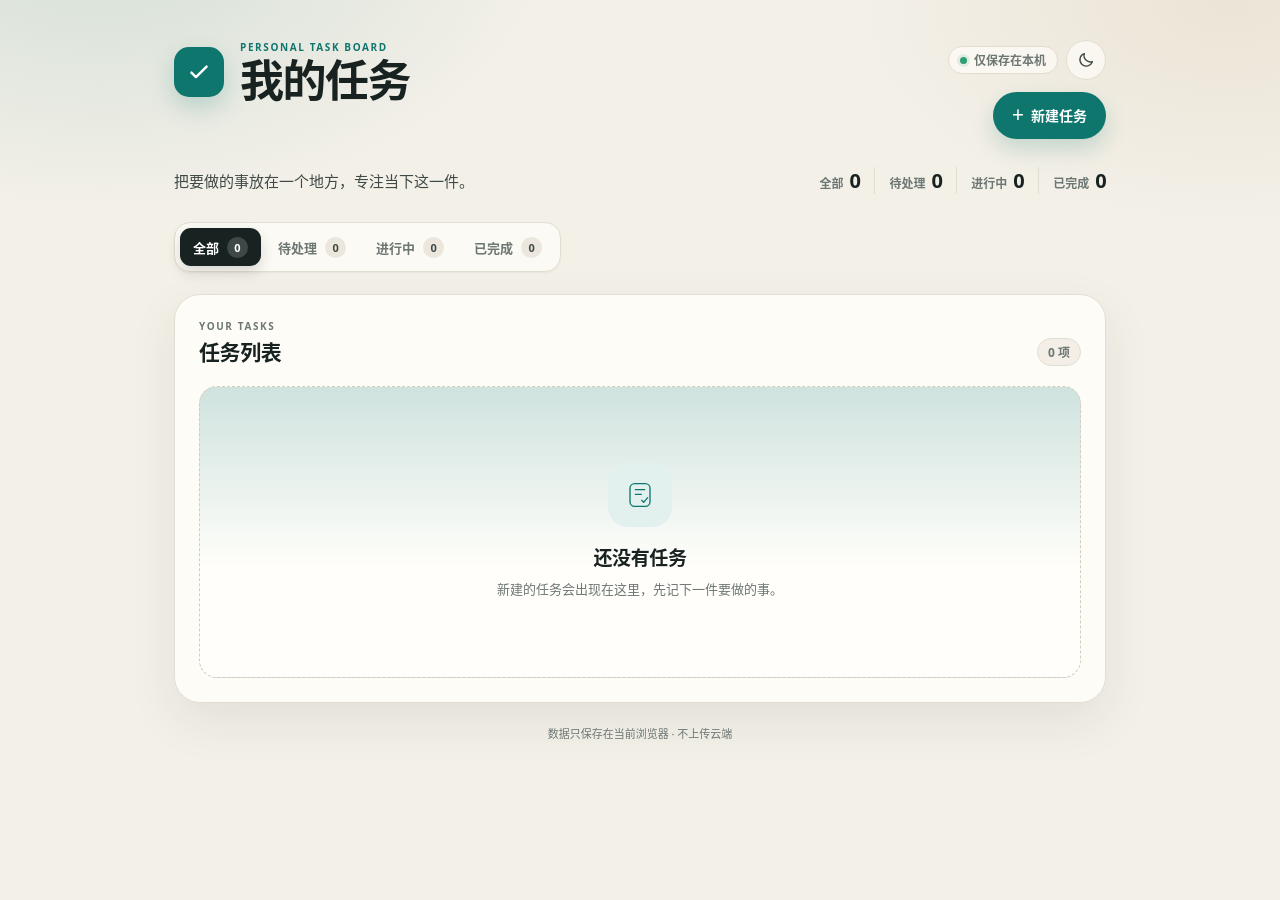
status transitions and feedback › closes a toast from its close button
This screenshot has width=1280, height=900.
Click the button "+ 新建任务": [1050, 116] box [993,92,1106,139]
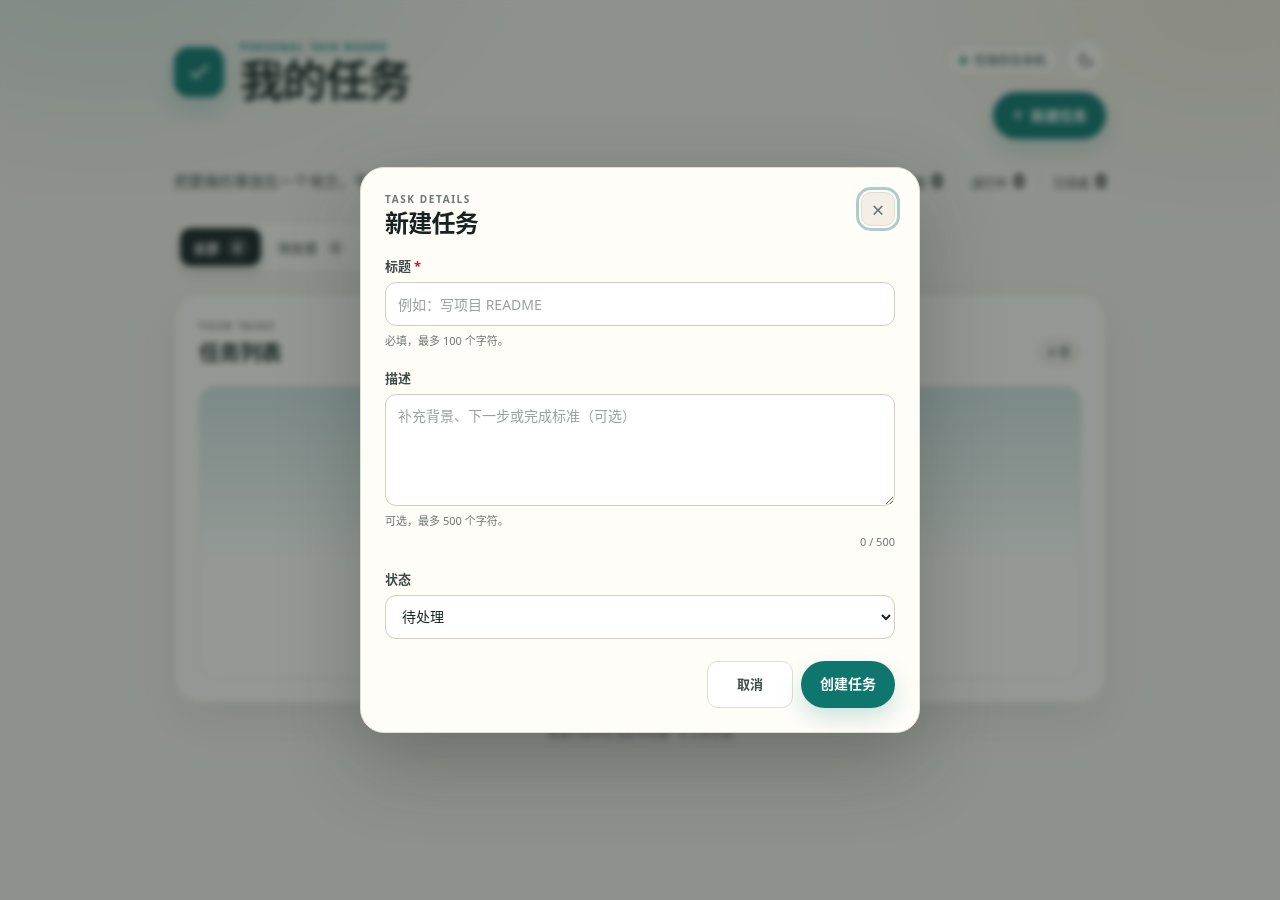
In the field labelled "标题*": [640, 304] box [385,282,895,326], type "可关闭的提示"
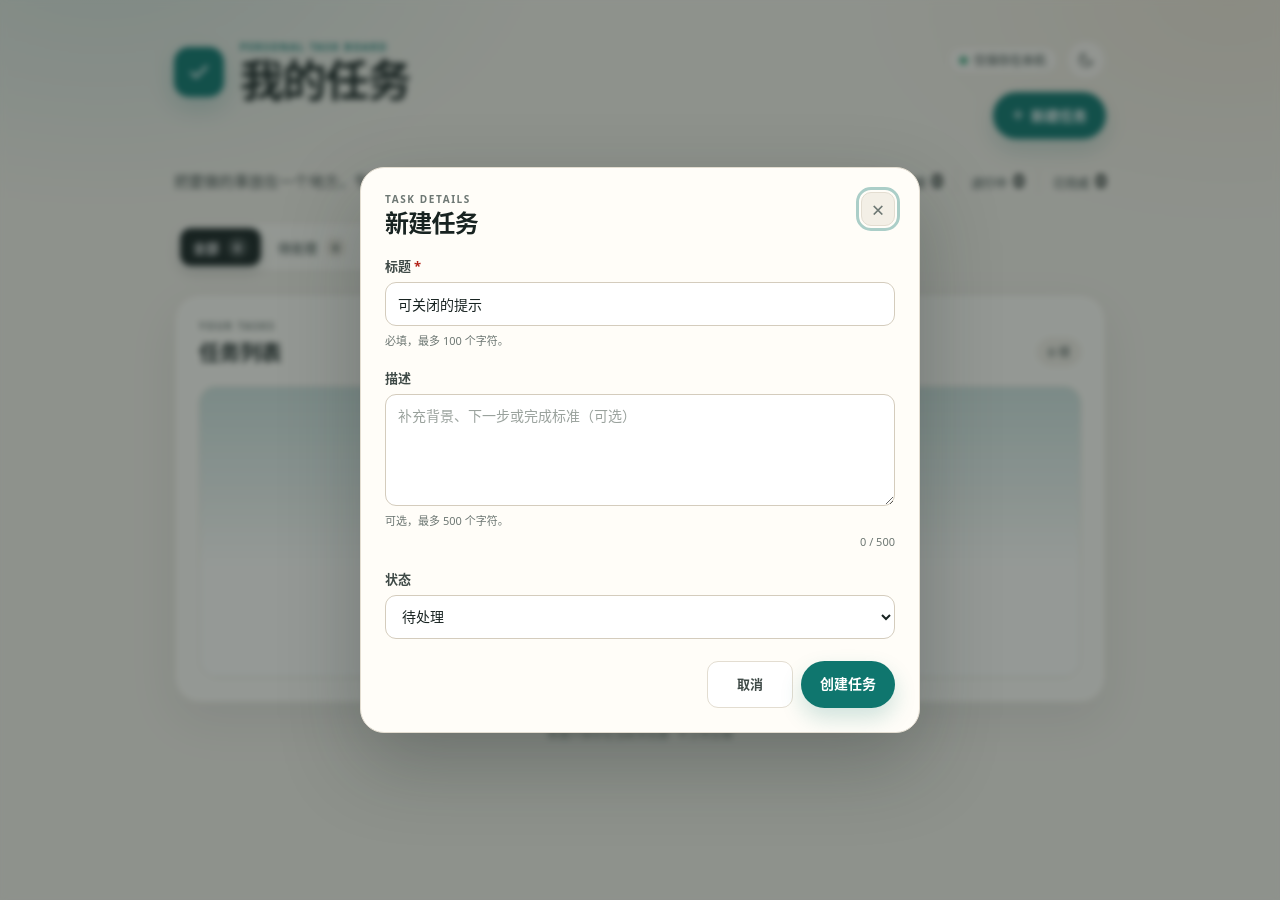
Click the button "创建任务": [848, 684] box [801,661,895,708]
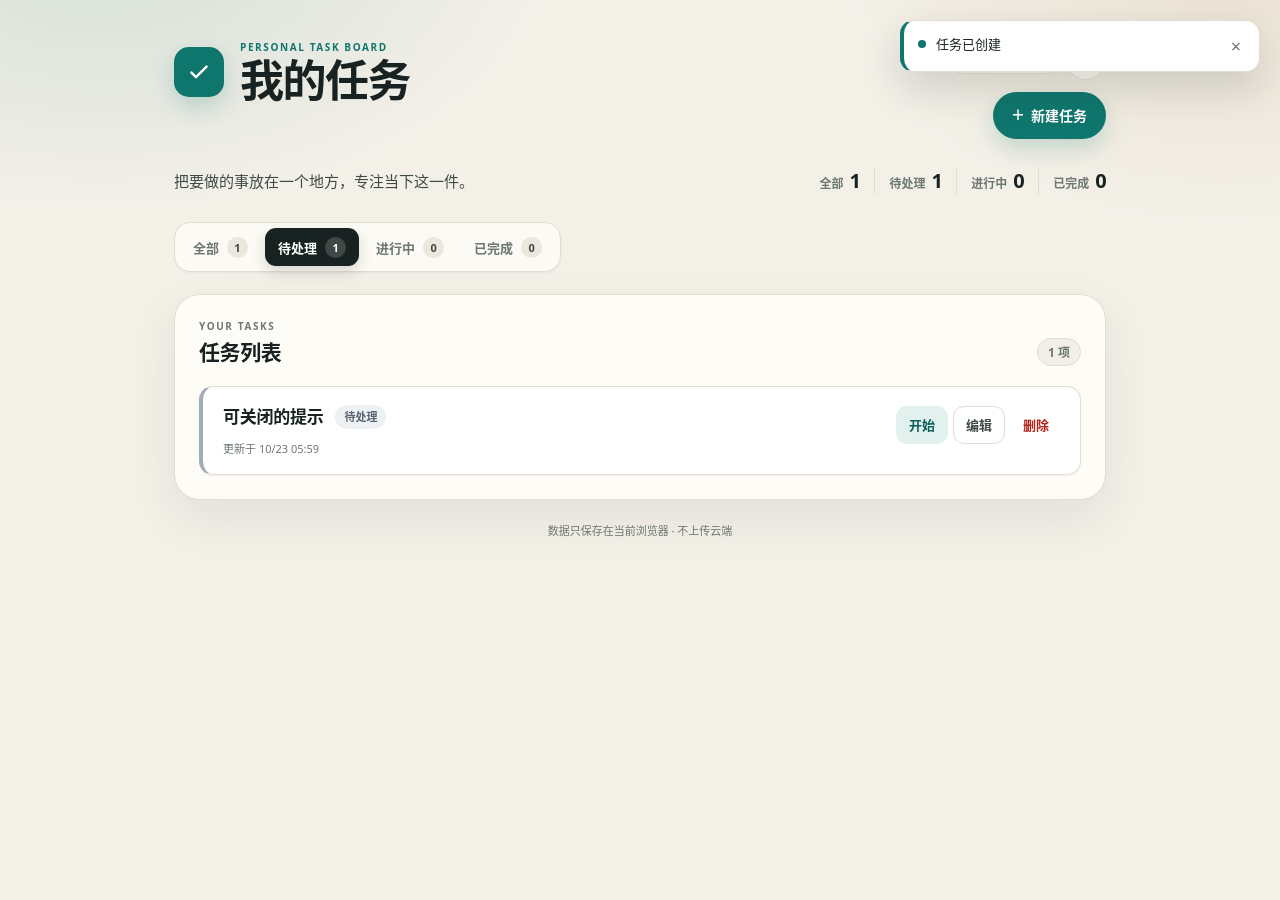
Click the button named "关闭提示": [1236, 46] box [1224,34,1248,58]
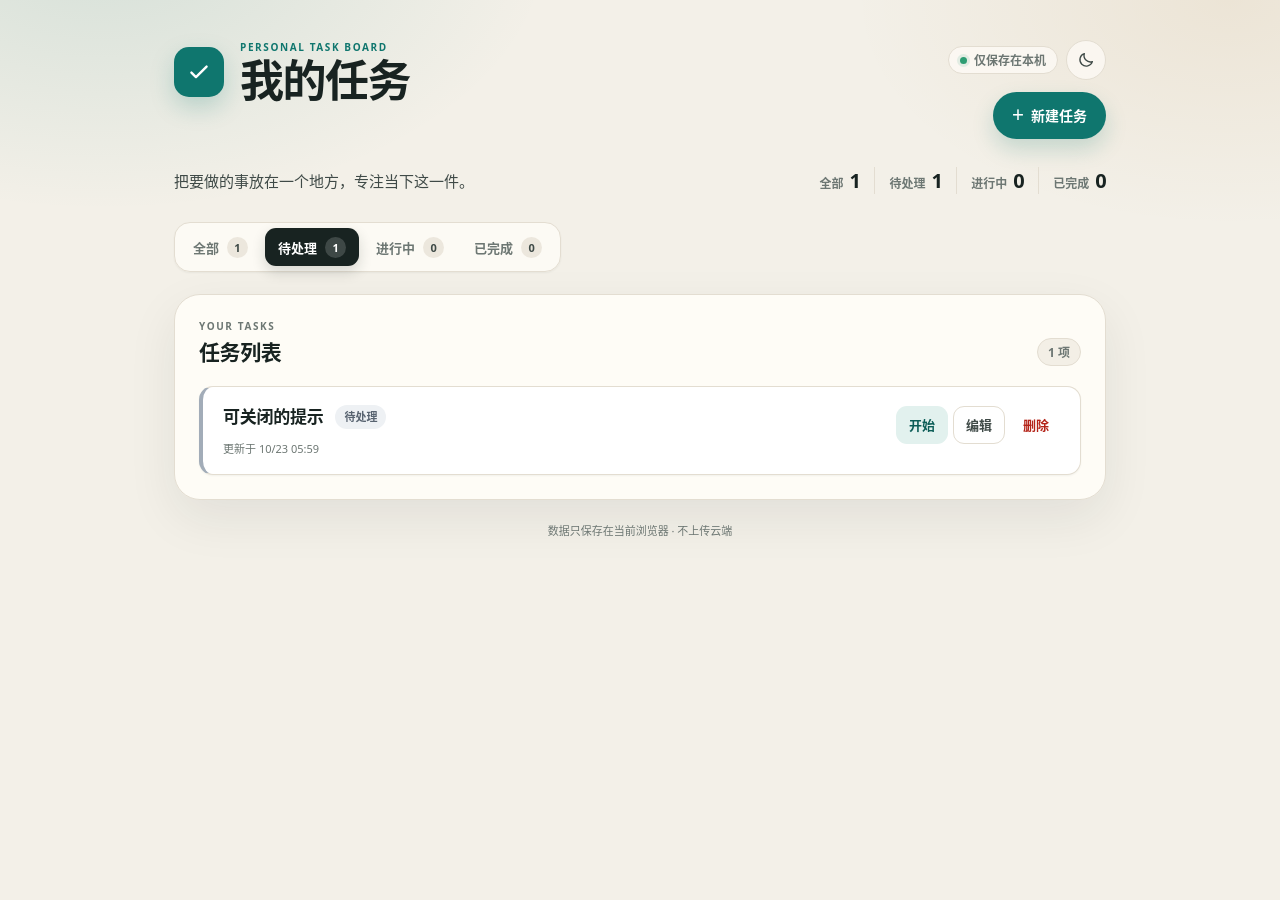
Now the message "任务已创建 ×" is gone
